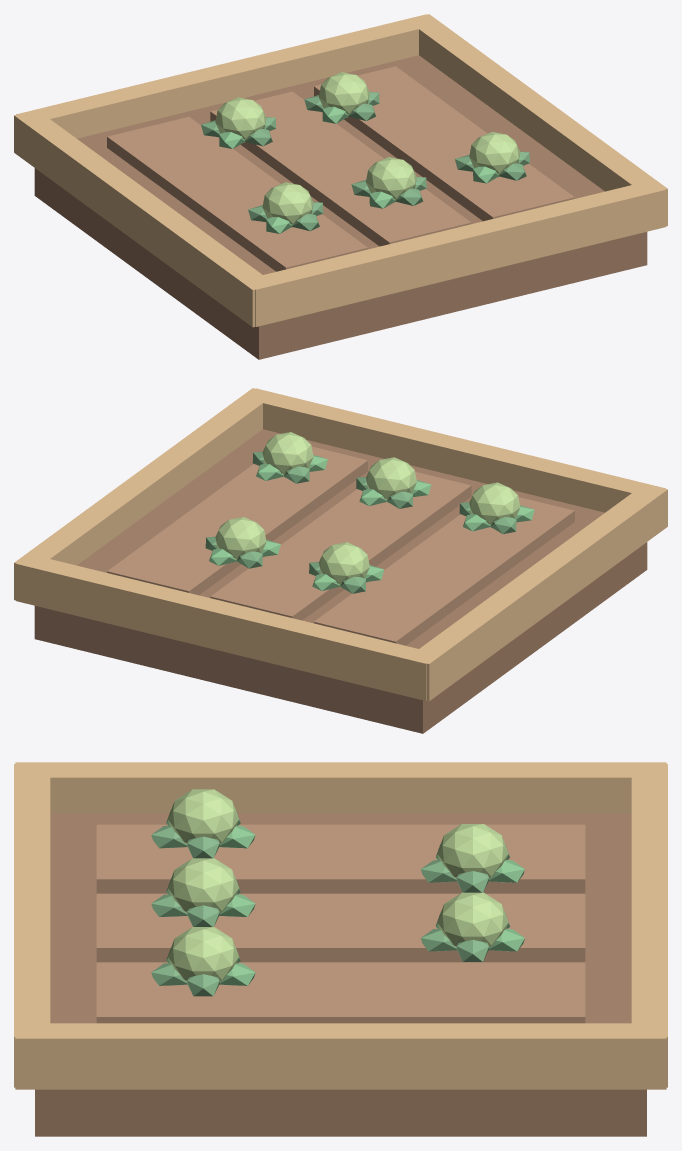
File: plot_cabbage_growing.glb
3 renders of one model, top to bottom at view 1: azimuth 30°, elevation 25°; view 2: azimuth 150°, elevation 25°; view 3: azimuth 270°, elevation 25°, orthographic. The views are drawn at different scales.
Visible parts, largest first — view 1: square soil bed.005, short timber edge.010, long timber edge.010, short timber edge.011, raised planting row.015, raised planting row.017, raised planting row.016, long timber edge.011, pale cabbage heart.002, pale cabbage heart.004, pale cabbage heart, pale cabbage heart.001 (+1 smaller); view 2: square soil bed.005, short timber edge.011, long timber edge.010, raised planting row.015, short timber edge.010, raised planting row.017, raised planting row.016, long timber edge.011, pale cabbage heart.003, pale cabbage heart, pale cabbage heart.001, pale cabbage heart.002 (+1 smaller); view 3: square soil bed.005, long timber edge.011, long timber edge.010, raised planting row.017, raised planting row.016, raised planting row.015, short timber edge.010, short timber edge.011, pale cabbage heart, pale cabbage heart.004, pale cabbage heart.001, pale cabbage heart.002 (+16 smaller).
Part boxes in pixels (x1,y1,x2,y2): square soil bed.005: (34, 55, 647, 359); short timber edge.010: (244, 180, 665, 326); long timber edge.010: (14, 110, 274, 327); short timber edge.011: (16, 14, 431, 138); raised planting row.015: (107, 117, 367, 271); raised planting row.017: (314, 66, 574, 221); raised planting row.016: (210, 91, 471, 246); long timber edge.011: (406, 14, 667, 226); pale cabbage heart.002: (469, 132, 520, 176); pale cabbage heart.004: (319, 72, 369, 117); pale cabbage heart: (262, 182, 313, 227); pale cabbage heart.001: (366, 157, 416, 202); square soil bed.005: (34, 429, 647, 733); short timber edge.011: (16, 554, 437, 700); long timber edge.010: (407, 484, 667, 701); raised planting row.015: (314, 497, 574, 645); short timber edge.010: (256, 388, 665, 512); raised planting row.017: (107, 446, 367, 595); raised planting row.016: (210, 471, 471, 620); long timber edge.011: (14, 388, 275, 600); pale cabbage heart.003: (318, 542, 369, 587); pale cabbage heart: (469, 482, 520, 527); pale cabbage heart.001: (366, 457, 416, 502); pale cabbage heart.002: (262, 432, 313, 477); square soil bed.005: (35, 813, 646, 1136); long timber edge.011: (15, 1023, 666, 1089); long timber edge.010: (15, 762, 666, 813); raised planting row.017: (96, 962, 585, 1023); raised planting row.016: (96, 893, 585, 962); raised planting row.015: (96, 824, 585, 893); short timber edge.010: (14, 764, 50, 1087); short timber edge.011: (631, 764, 667, 1087); pale cabbage heart: (168, 789, 238, 844); pale cabbage heart.004: (437, 892, 508, 947); pale cabbage heart.001: (168, 858, 238, 912); pale cabbage heart.002: (168, 927, 238, 981).
Size of the model in its own units: 2.33 by 0.5771 by 2.33.
